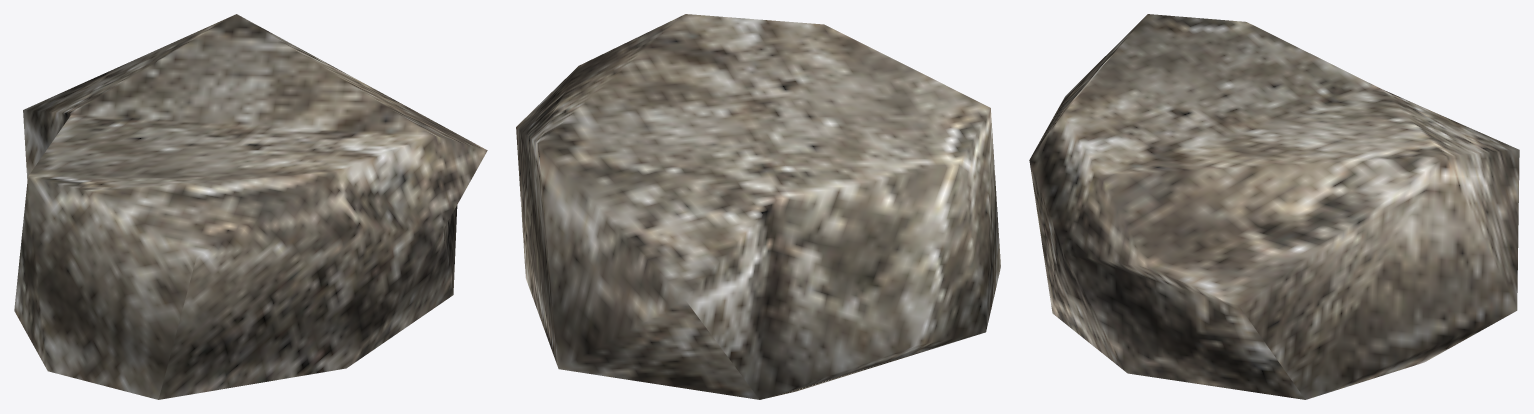
The model's file is Debris1_11.fbx.
3 views of the same model, side by side, from view 1: azimuth 30°, elevation 25°; view 2: azimuth 150°, elevation 25°; view 3: azimuth 270°, elevation 25° (orthographic). The views are drawn at different scales.
Parts seen in each view (by area): view 1: polySurface161; view 2: polySurface161; view 3: polySurface161.
Part boxes in pixels (x1=…): polySurface161: x1=14, y1=14, x2=487, y2=399; polySurface161: x1=516, y1=14, x2=1000, y2=399; polySurface161: x1=1029, y1=14, x2=1519, y2=399.
Size of the model in its own units: 0.5727 by 0.3097 by 0.5513.
